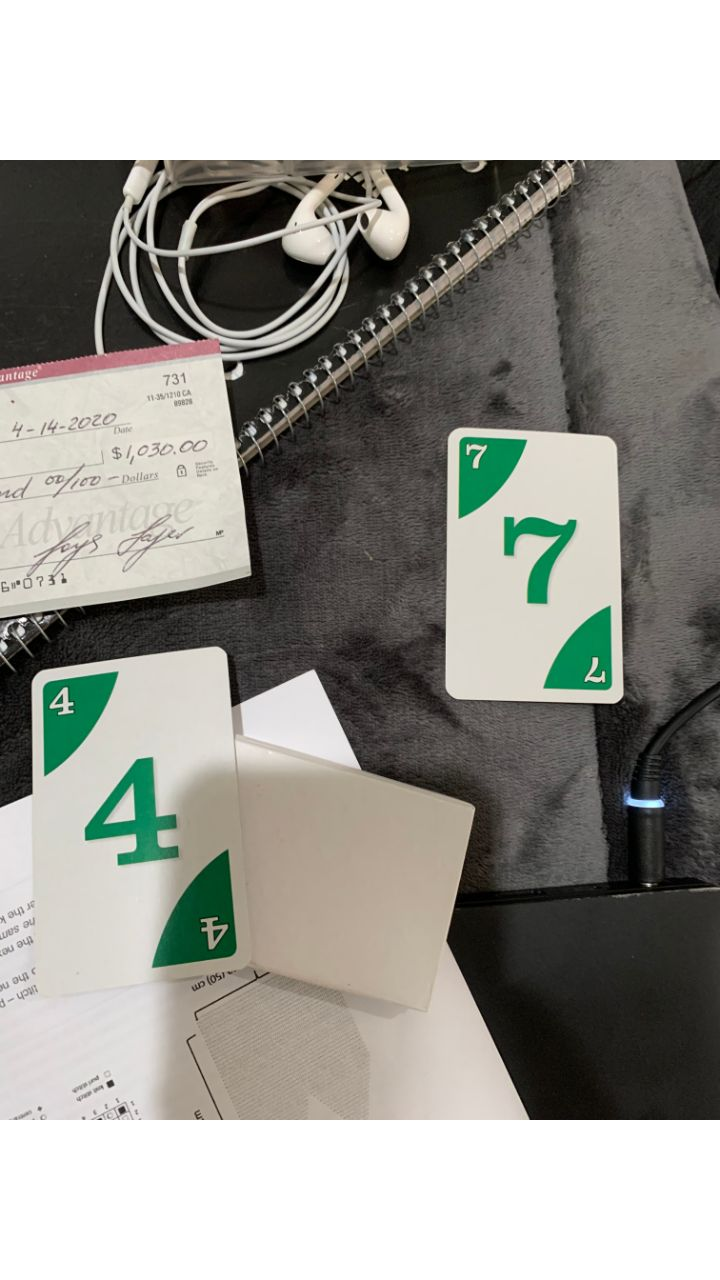four: (30, 649, 244, 988)
seven: (439, 425, 625, 703)
